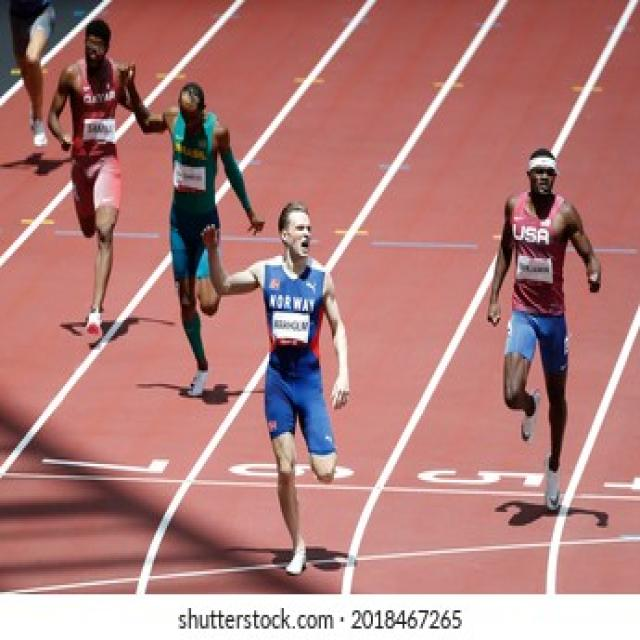running: (483, 145, 605, 518), (238, 202, 352, 578), (125, 56, 238, 395), (50, 18, 139, 336)
